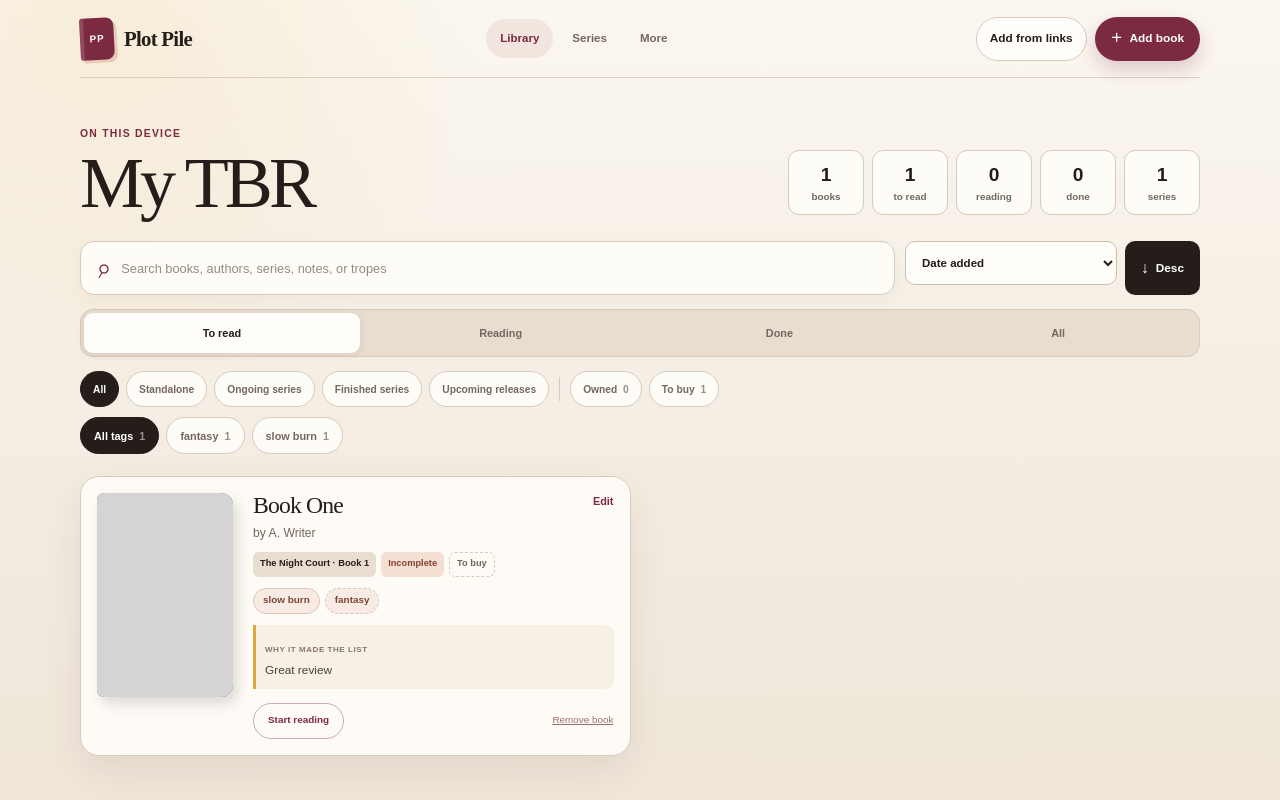
Scenario: Plot Pile behavior › adds a series tag once and exposes it on every linked book
Expected: the heading "Book One" is shown, [253,493,343,518]
Click the button "Series": {"x": 590, "y": 38} [558,19,621,58]
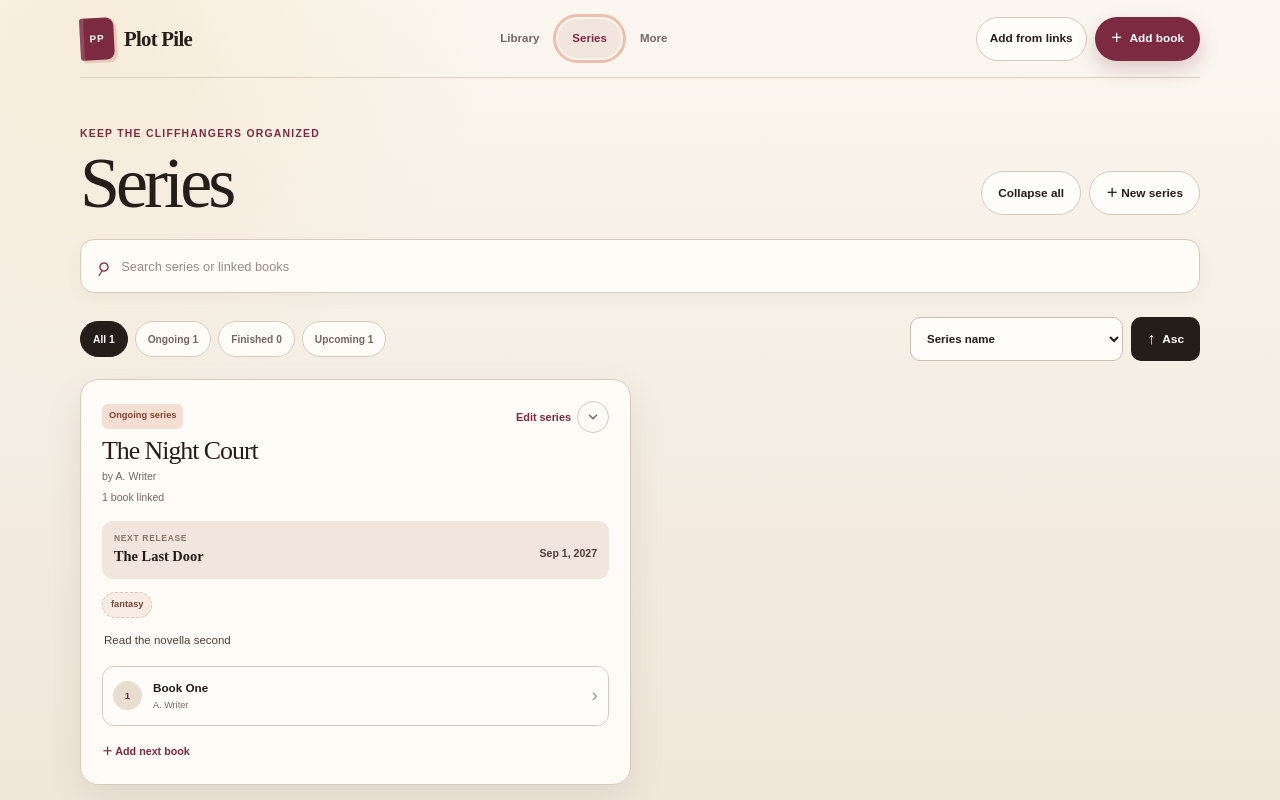
Click the button "Edit series": {"x": 544, "y": 417} [516,409,571,426]
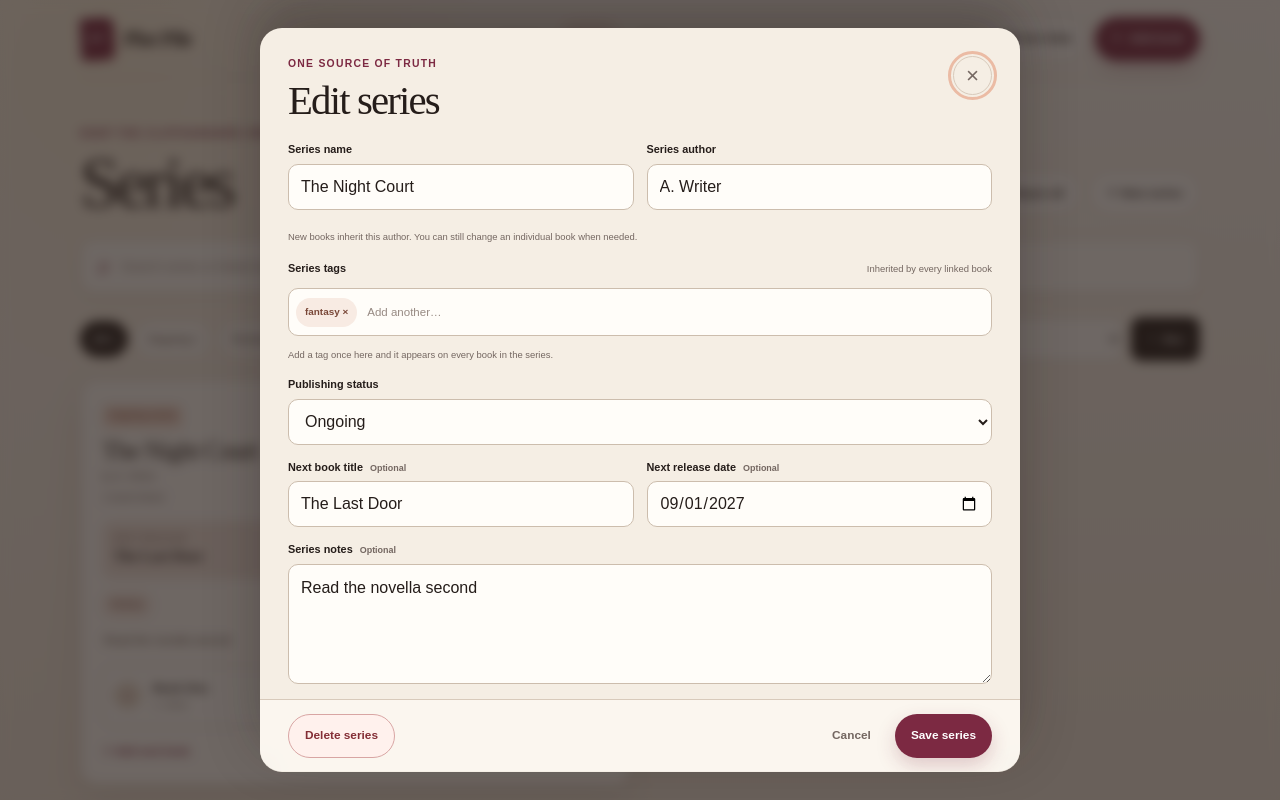
In the field named "Add series tags": {"x": 673, "y": 312} [362,296,984,328], type "progression"
Then press Enter
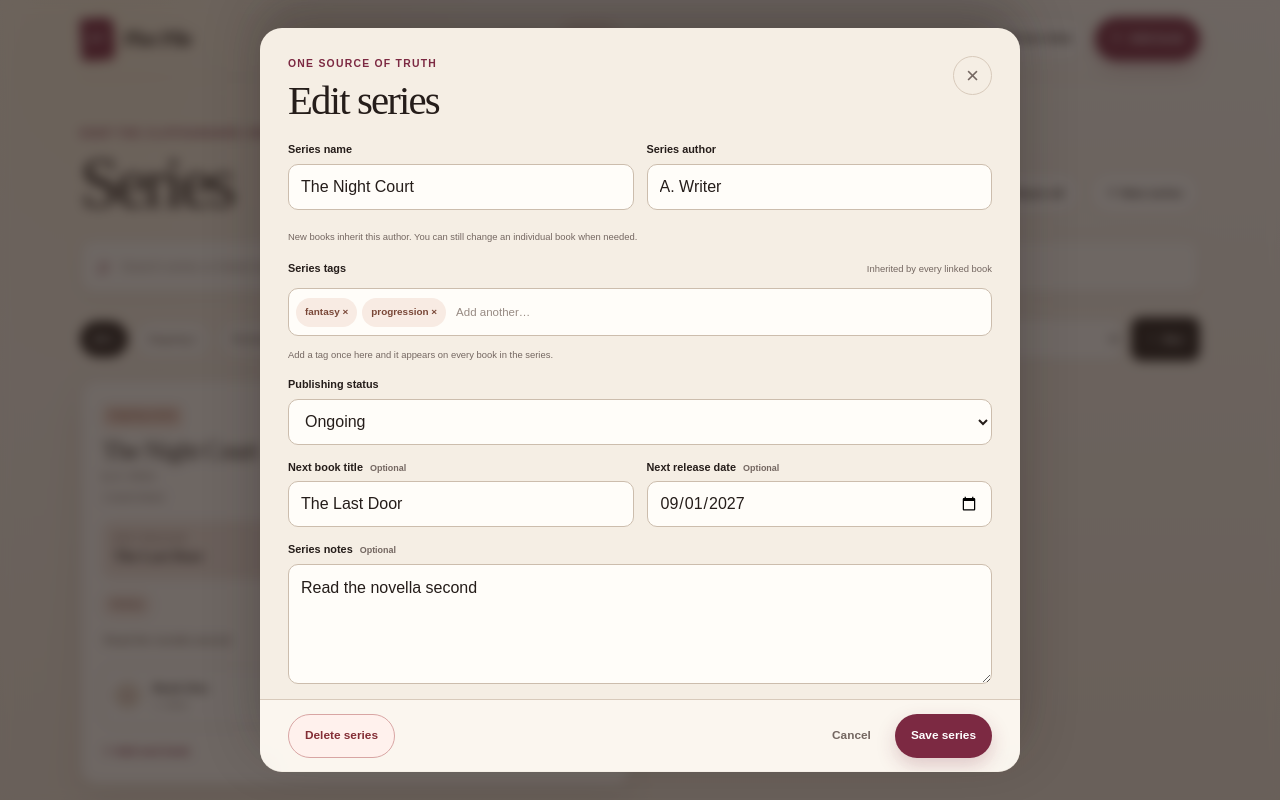
Click the button "Save series": {"x": 943, "y": 736} [895,714,992,758]
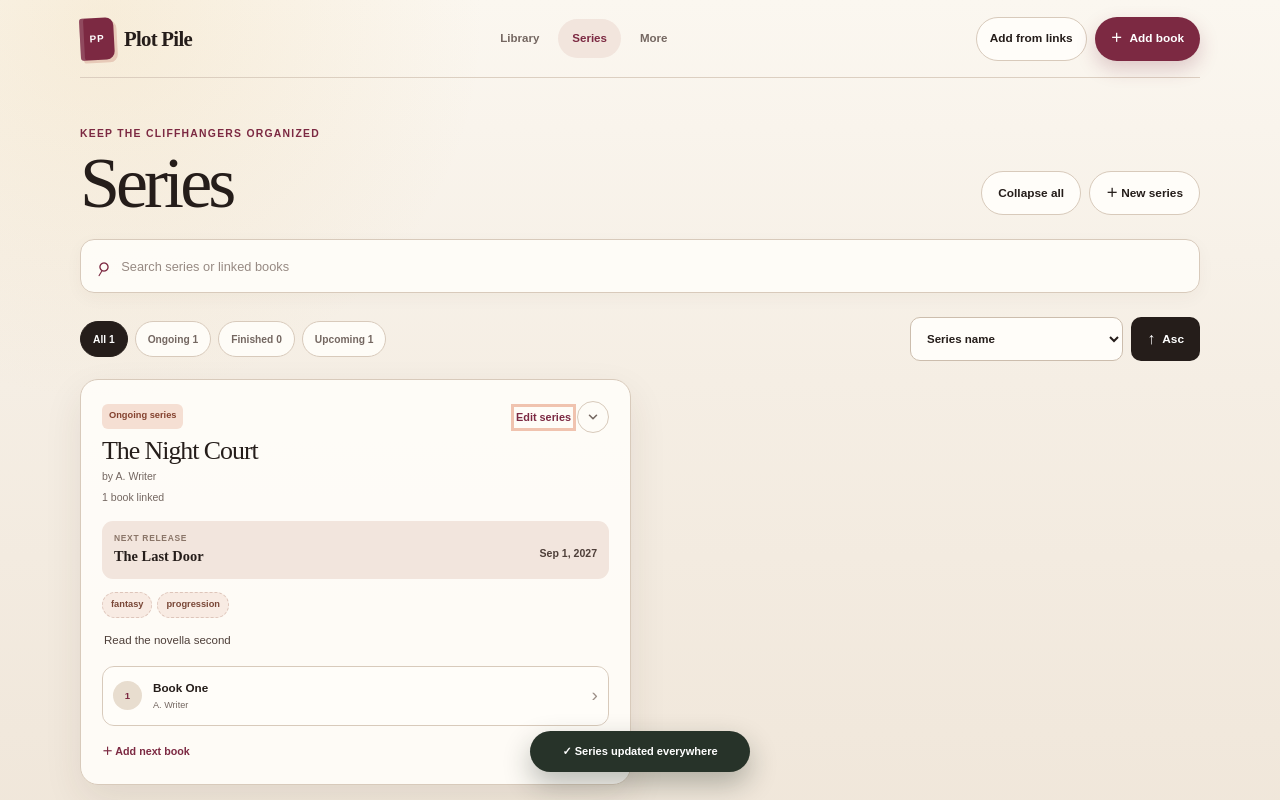
Click the button "Library": {"x": 520, "y": 38} [486,19,553,58]
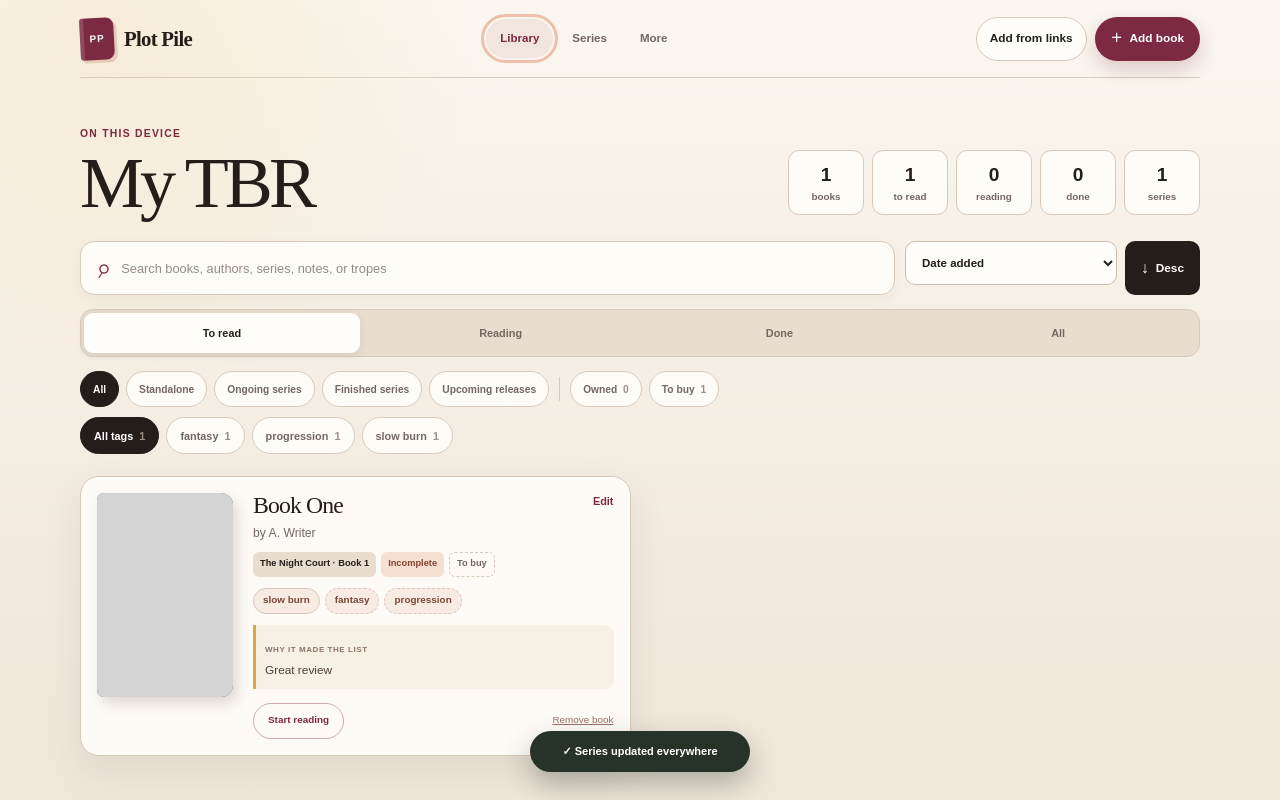
Expected: the number of buttons "progression 1" is 2, [252,417,355,454]; [384,588,462,614]
